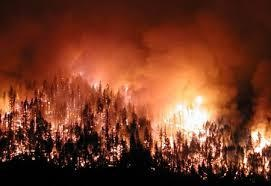fire: (161, 94, 214, 142)
